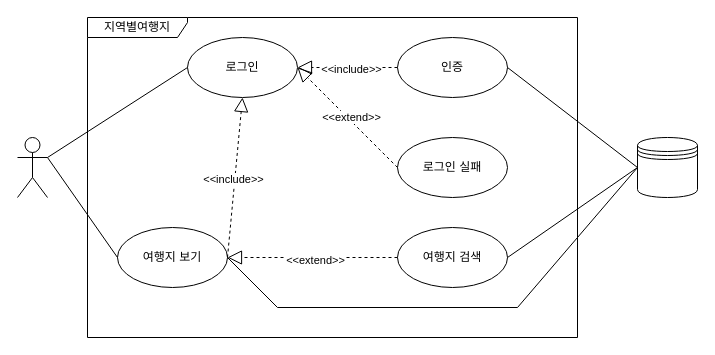
The diagram is 715 pixels wide and 355 high, and some of its shapes have lost their labels. Each missing label, with the centre of its shape:
Actor: (x=32, y=167)
DB: (x=667, y=167)
